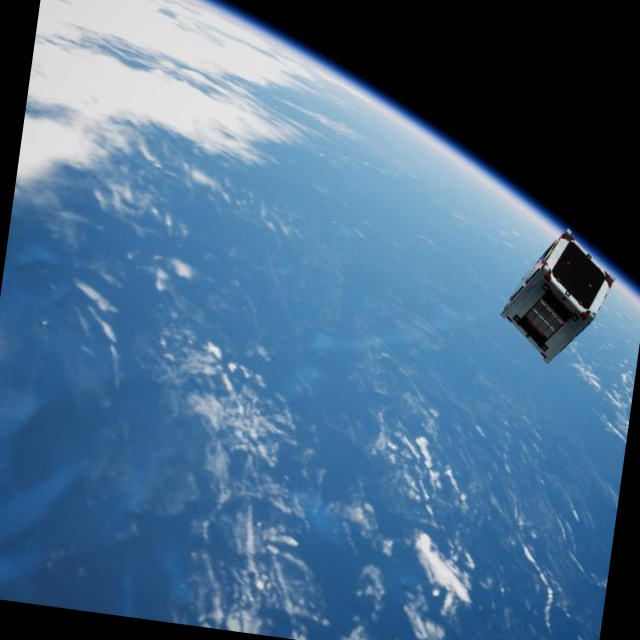medium_debris: (492, 218, 625, 371)
